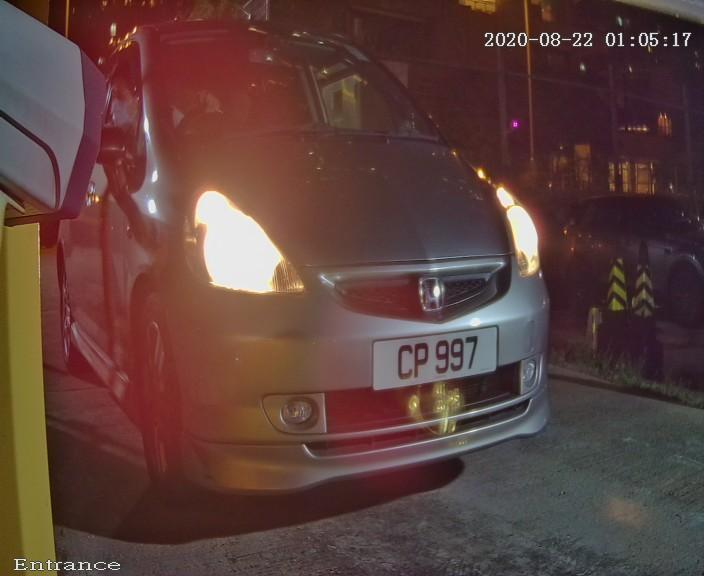Car: (32, 34, 610, 507)
License Plate: (359, 317, 514, 414)
